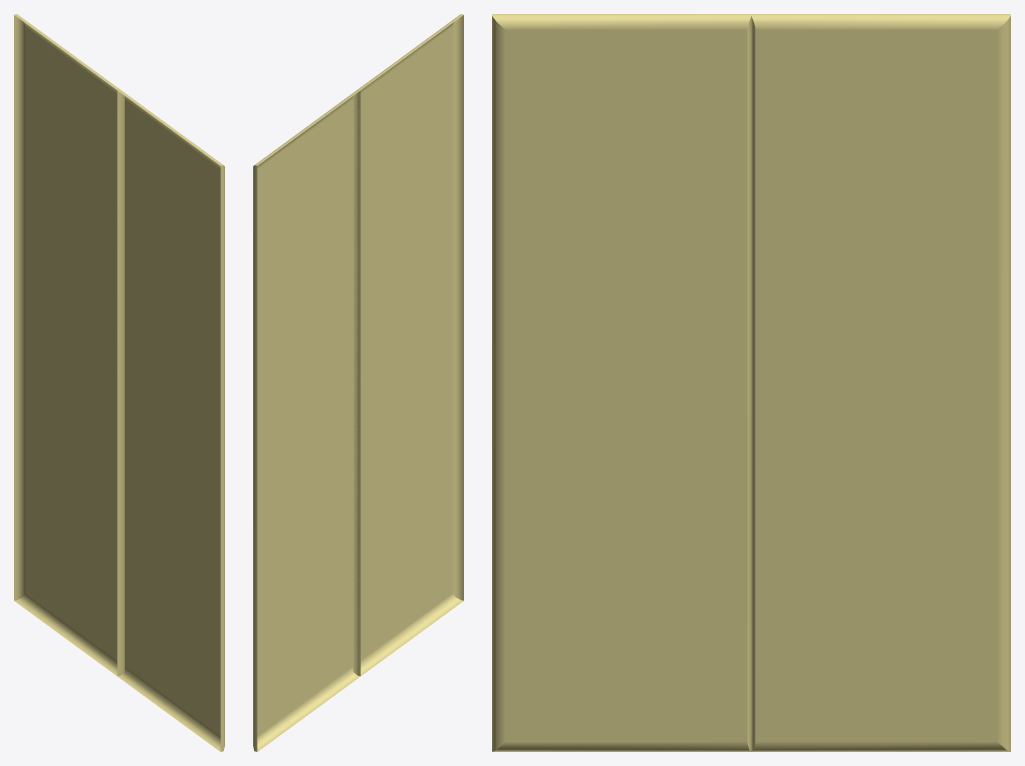
File: Door_Cupboard.fbx
3 views of the same model, side by side, from view 1: azimuth 30°, elevation 25°; view 2: azimuth 150°, elevation 25°; view 3: azimuth 270°, elevation 25° (orthographic). The views are drawn at different scales.
Visible parts, largest first — view 1: Door.L, Door.R; view 2: Door.L, Door.R; view 3: Door.L, Door.R.
Part boxes in pixels (<box>): Door.L: <box>117,89,224,751</box>; Door.R: <box>14,14,120,675</box>; Door.L: <box>357,14,463,676</box>; Door.R: <box>253,89,360,751</box>; Door.L: <box>492,14,751,751</box>; Door.R: <box>751,14,1010,751</box>.
Bounding box in the file's own units: 1.25 × 112 × 71.25.
